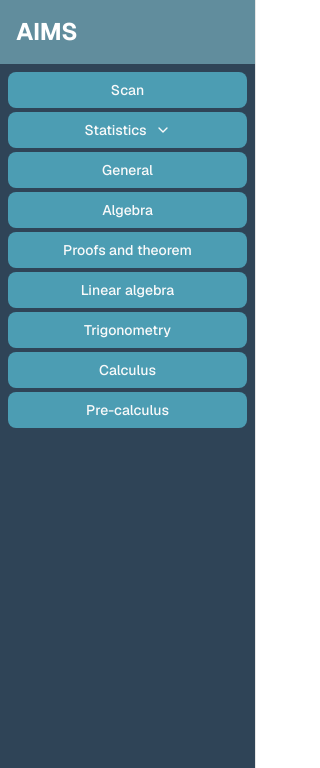
Test: Sidebar › renders the navigation items
The image size is (320, 768).
Expected: the button "Calculus" is shown, [8,352,247,388]
Click the button "Statistics" at {"x": 128, "y": 130}, box [8,112,247,148]
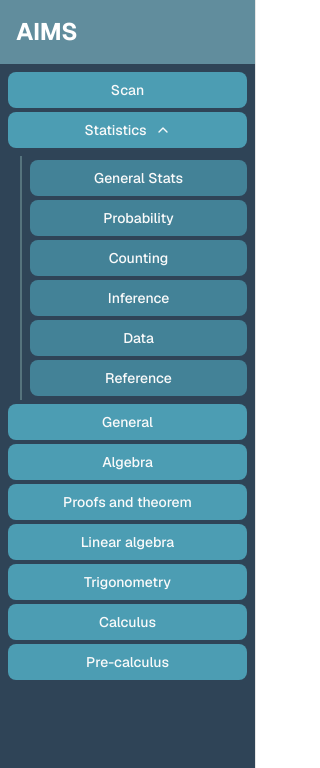
Now the button "Probability" is shown, box [30,200,247,236]
Now the button "Counting" is shown, box [30,240,247,276]
Now the button "Inference" is shown, box [30,280,247,316]
